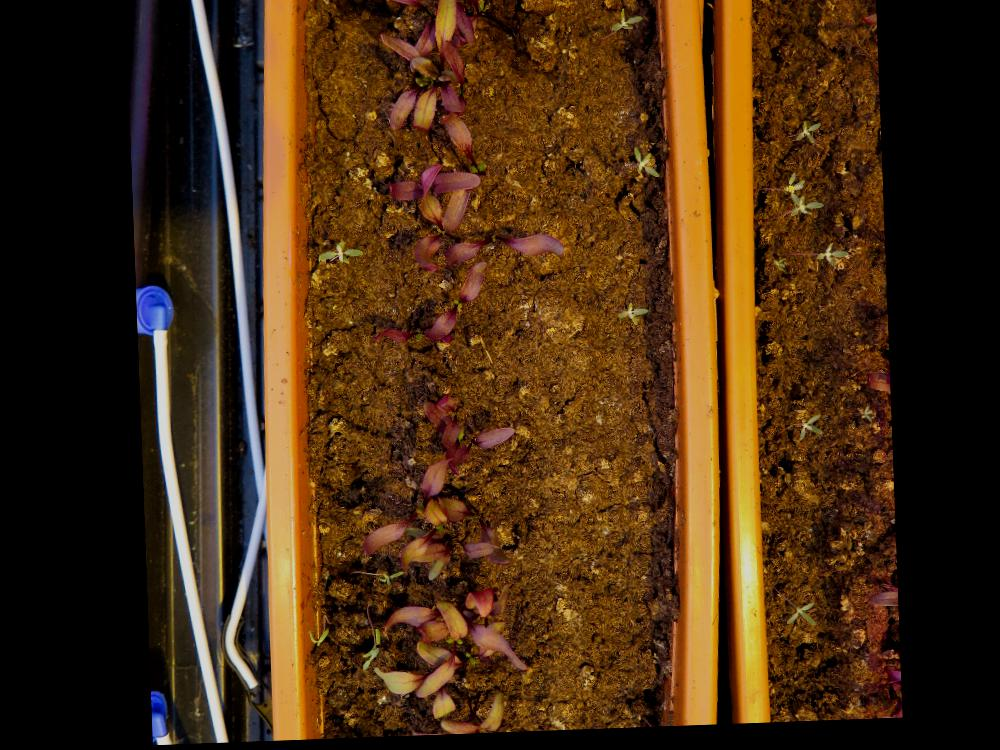weed: (314, 243, 363, 270), (810, 247, 848, 276), (611, 305, 647, 333), (630, 151, 659, 185), (607, 11, 642, 38), (779, 607, 811, 634), (791, 420, 820, 449), (790, 126, 820, 153), (370, 574, 399, 591), (767, 263, 787, 280), (854, 412, 871, 431), (834, 0, 862, 3)
